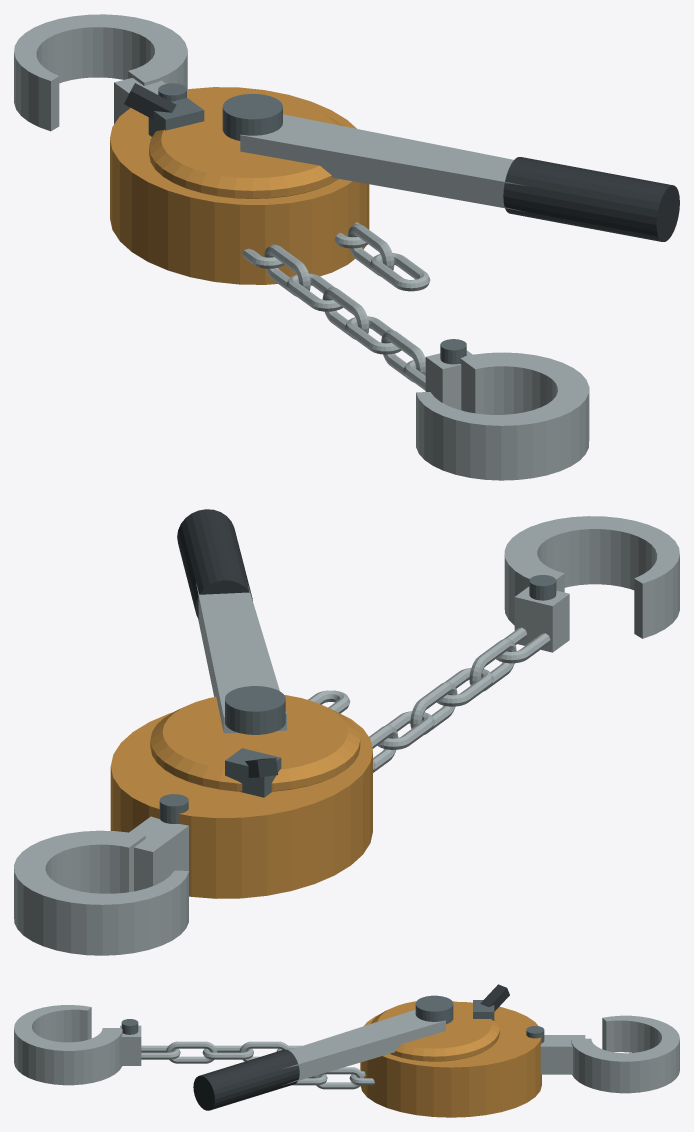
3 renders of one model, top to bottom at view 1: azimuth 30°, elevation 25°; view 2: azimuth 150°, elevation 25°; view 3: azimuth 270°, elevation 25°, orthographic. The views are drawn at different scales.
Visible parts, largest first — view 1: WholeOvalHoistGearCase, WholeLowerOpenLoadHook, WholeLongTaperedHandLever, WholeUpperOpenSuspensionHook, WholeLongLeverGrip, WholeRaisedFrontDriveCover, WholeLeverPivotCap, WholeLowerHookNeck, WholeReturnChainLink2, WholeSelectorRoot, WholeLoadChainLink1, WholeReturnChainLink1 (+6 smaller); view 2: WholeOvalHoistGearCase, WholeUpperOpenSuspensionHook, WholeLowerOpenLoadHook, WholeRaisedFrontDriveCover, WholeLongTaperedHandLever, WholeLongLeverGrip, WholeUpperHookNeck, WholeLeverPivotCap, WholeLowerHookNeck, WholeSelectorRoot, WholeLoadChainLink3, WholeLoadChainLink5 (+5 smaller); view 3: WholeOvalHoistGearCase, WholeLowerOpenLoadHook, WholeUpperOpenSuspensionHook, WholeLongTaperedHandLever, WholeLongLeverGrip, WholeRaisedFrontDriveCover, WholeUpperHookNeck, WholeLeverPivotCap, WholeLowerHookNeck, WholeLoadChainLink5, WholeLoadChainLink4, WholeReturnChainLink1 (+7 smaller).
Boxes of the visible parts, x1,y1,x2,y2 form: WholeOvalHoistGearCase: (110, 87, 369, 284); WholeLowerOpenLoadHook: (416, 352, 589, 480); WholeLongTaperedHandLever: (240, 114, 525, 211); WholeUpperOpenSuspensionHook: (14, 14, 187, 131); WholeLongLeverGrip: (503, 157, 679, 241); WholeRaisedFrontDriveCover: (149, 102, 343, 198); WholeLeverPivotCap: (222, 94, 282, 140); WholeLowerHookNeck: (425, 350, 472, 410); WholeReturnChainLink2: (370, 253, 430, 291); WholeSelectorRoot: (148, 98, 204, 136); WholeLoadChainLink1: (264, 244, 310, 296); WholeReturnChainLink1: (347, 224, 394, 276); WholeOvalHoistGearCase: (110, 712, 372, 898); WholeUpperOpenSuspensionHook: (14, 830, 188, 955); WholeLowerOpenLoadHook: (504, 516, 679, 638); WholeRaisedFrontDriveCover: (150, 695, 360, 791); WholeLongTaperedHandLever: (196, 583, 286, 733); WholeLongLeverGrip: (177, 509, 252, 619); WholeUpperHookNeck: (129, 816, 188, 891); WholeLeverPivotCap: (225, 686, 285, 734); WholeLowerHookNeck: (514, 586, 569, 652); WholeSelectorRoot: (225, 748, 281, 797); WholeLoadChainLink3: (410, 682, 457, 734); WholeLoadChainLink5: (469, 638, 516, 691); WholeOvalHoistGearCase: (360, 1001, 541, 1117); WholeLowerOpenLoadHook: (14, 1005, 122, 1085); WholeUpperOpenSuspensionHook: (571, 1015, 679, 1093); WholeLongTaperedHandLever: (283, 1009, 445, 1085); WholeLongLeverGrip: (193, 1049, 299, 1110); WholeRaisedFrontDriveCover: (371, 1001, 499, 1061); WholeUpperHookNeck: (540, 1035, 585, 1074); WholeLeverPivotCap: (415, 995, 453, 1024); WholeLowerHookNeck: (120, 1025, 141, 1065); WholeLoadChainLink5: (166, 1041, 217, 1063); WholeLoadChainLink4: (202, 1045, 253, 1059); WholeReturnChainLink1: (313, 1067, 364, 1089).
Bounding box in the file's own units: 0.3532 × 0.118 × 0.879.
